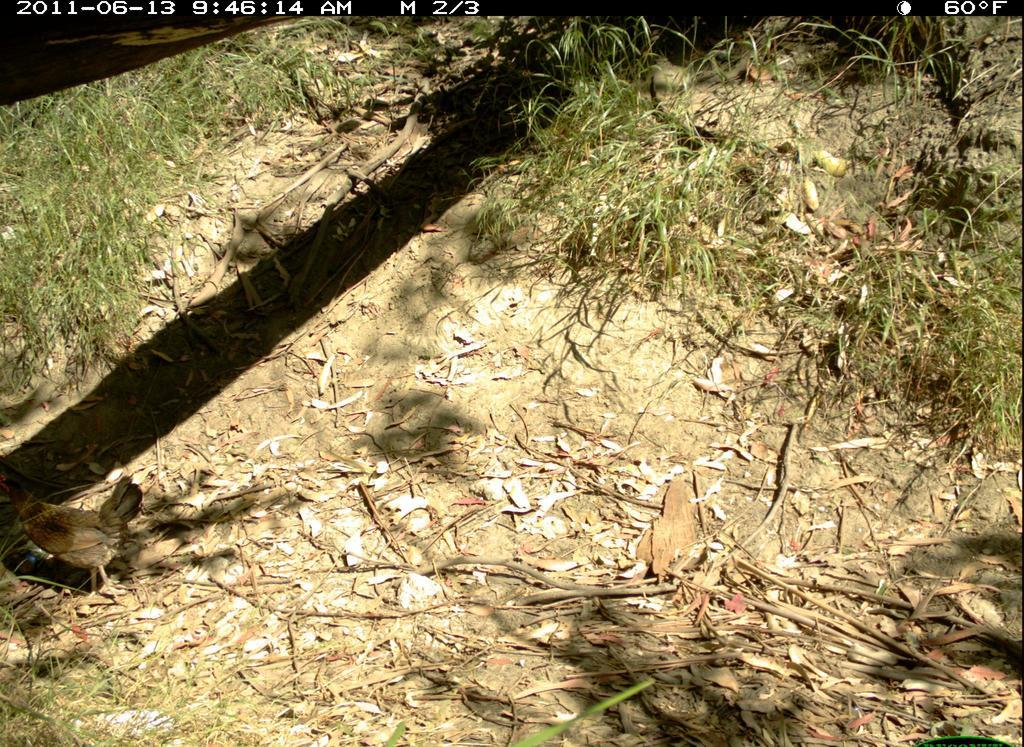bird: (6, 466, 144, 601)
